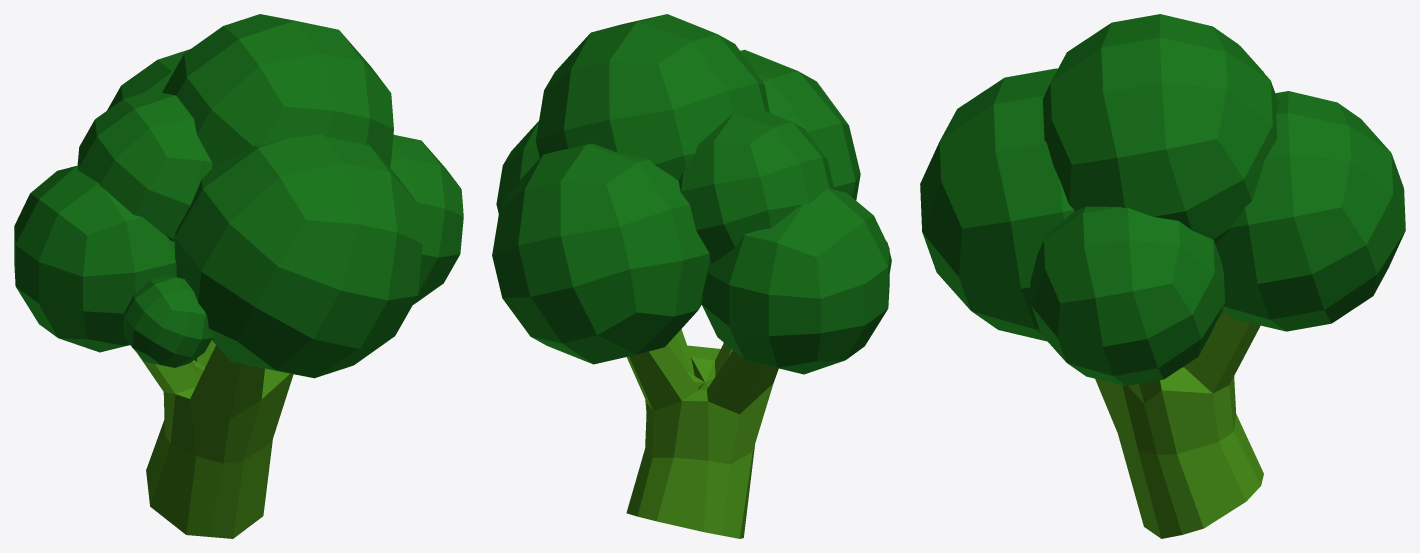
Rendered from Brocolli.obj.
The picture shows the model from 3 angles, left to right: view 1: azimuth 30°, elevation 25°; view 2: azimuth 150°, elevation 25°; view 3: azimuth 270°, elevation 25°; orthographic projection. The views are drawn at different scales.
Parts seen in each view (by area): view 1: Broccoli_Circle.007; view 2: Broccoli_Circle.007; view 3: Broccoli_Circle.007.
Boxes of the visible parts, x1,y1,x2,y2 form: Broccoli_Circle.007: [14, 14, 463, 538]; Broccoli_Circle.007: [492, 14, 891, 538]; Broccoli_Circle.007: [920, 14, 1405, 538].
Size of the model in its own units: 0.37 by 0.4425 by 0.371.
